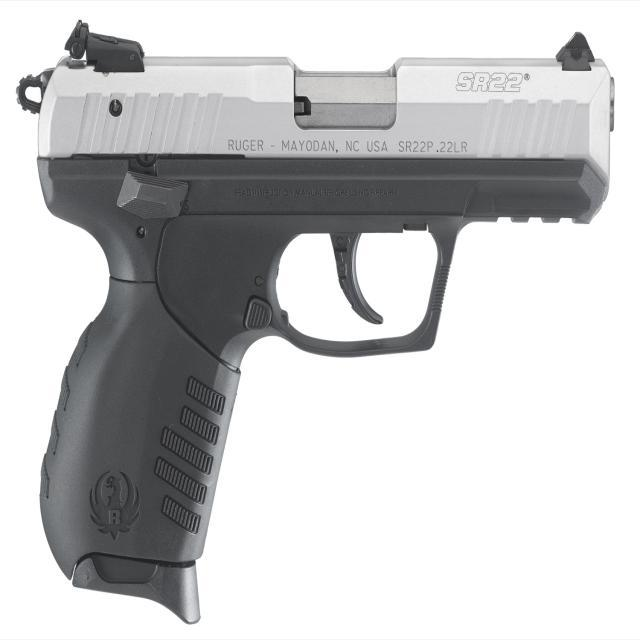Pistol: (12, 8, 637, 637)
